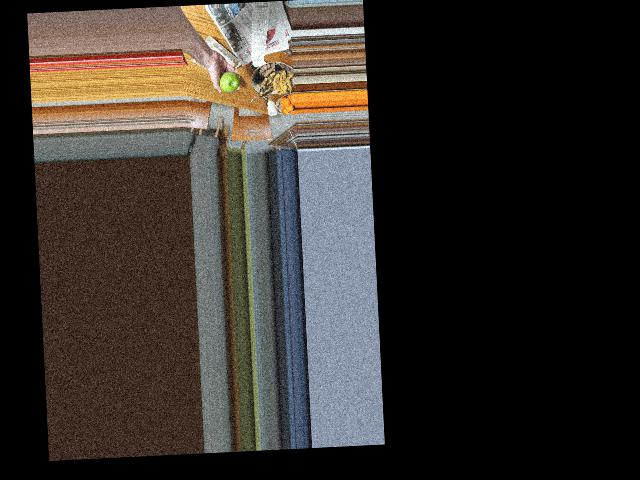apple: (216, 68, 242, 97)
